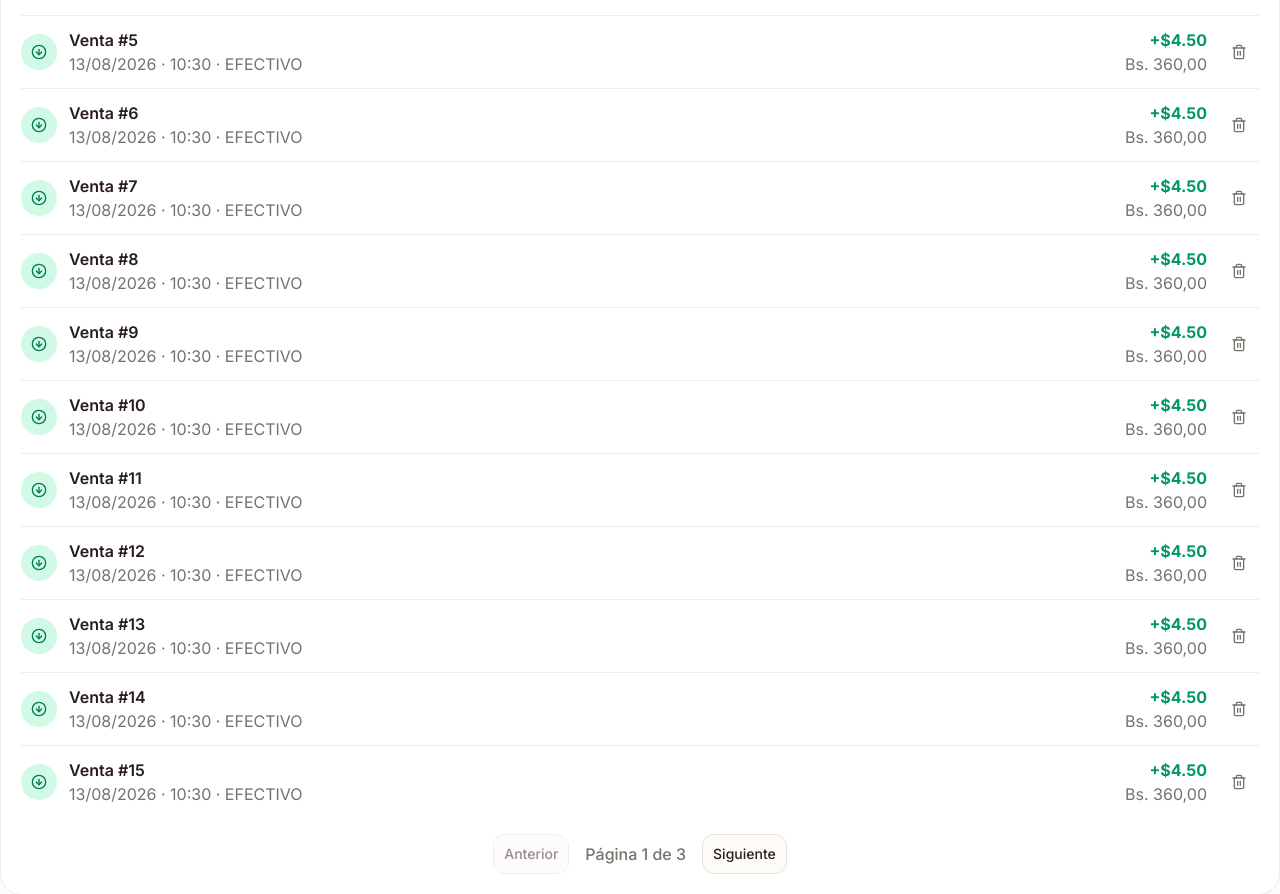
Test: TransactionsTable › pagina el historial de 15 en 15 y reinicia al filtrar
(page scrolled)
Expected: the text "Página 1 de 3" is shown, [585, 842, 686, 866]
Expected: the text "Venta #16" is not shown
Click the button with aria-label "página siguiente" at (744, 854), box [702, 834, 787, 874]
(page scrolled)
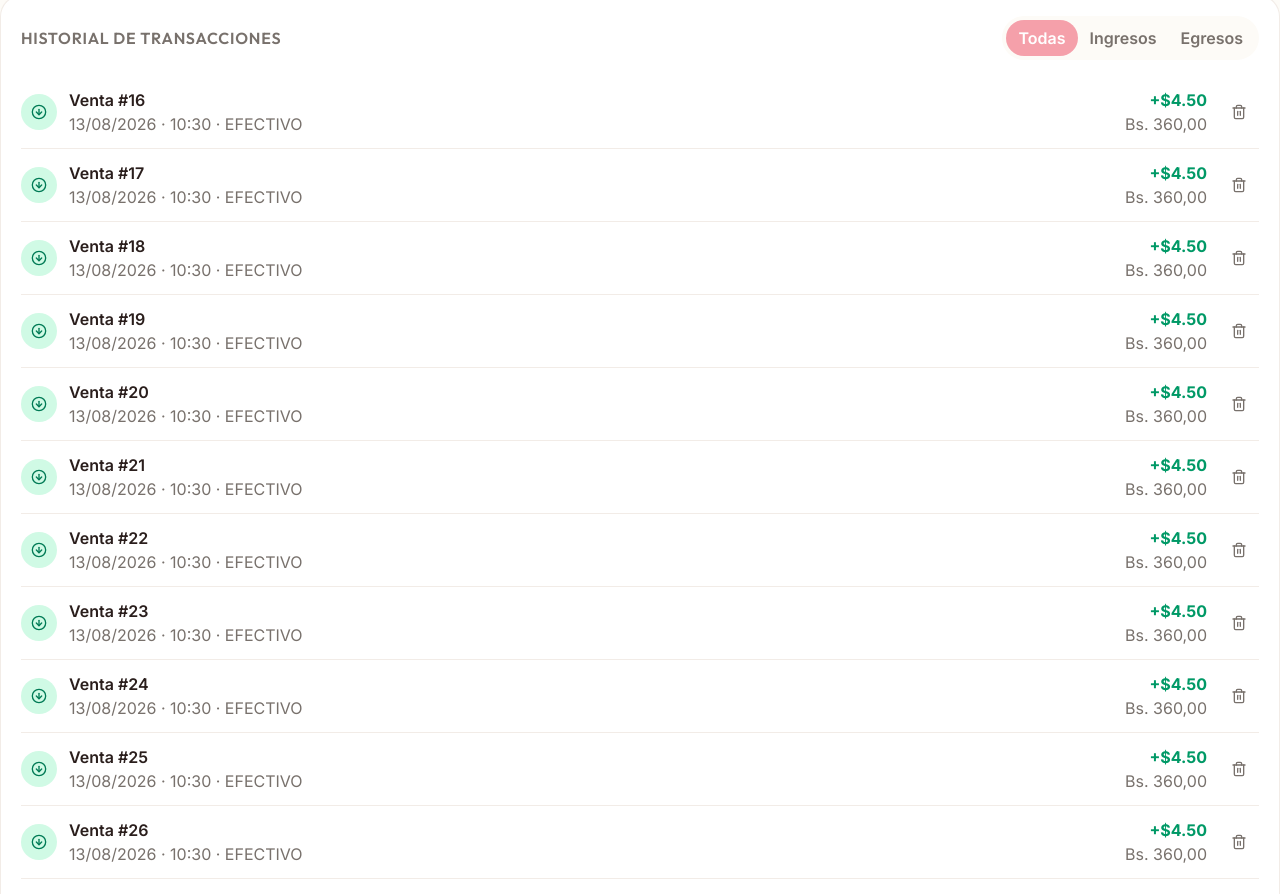
Expected: the text "Venta #16" is shown, [69, 90, 145, 110]
Click the button "Egresos" at (1212, 38), box [1168, 20, 1255, 56]
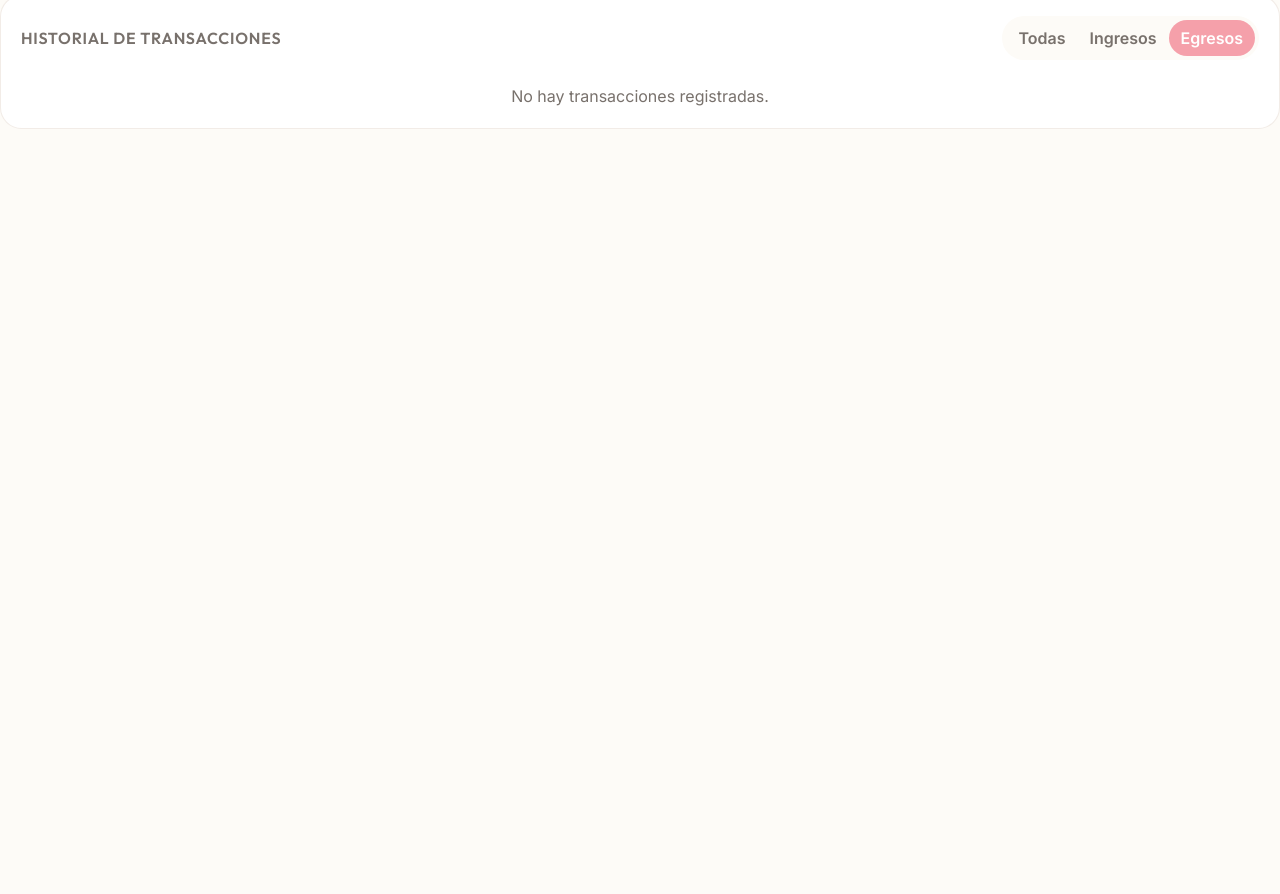
Expected: the text "Página 1 de 3" is not shown
Expected: the text "No hay transacciones registradas." is shown, [511, 86, 769, 106]
